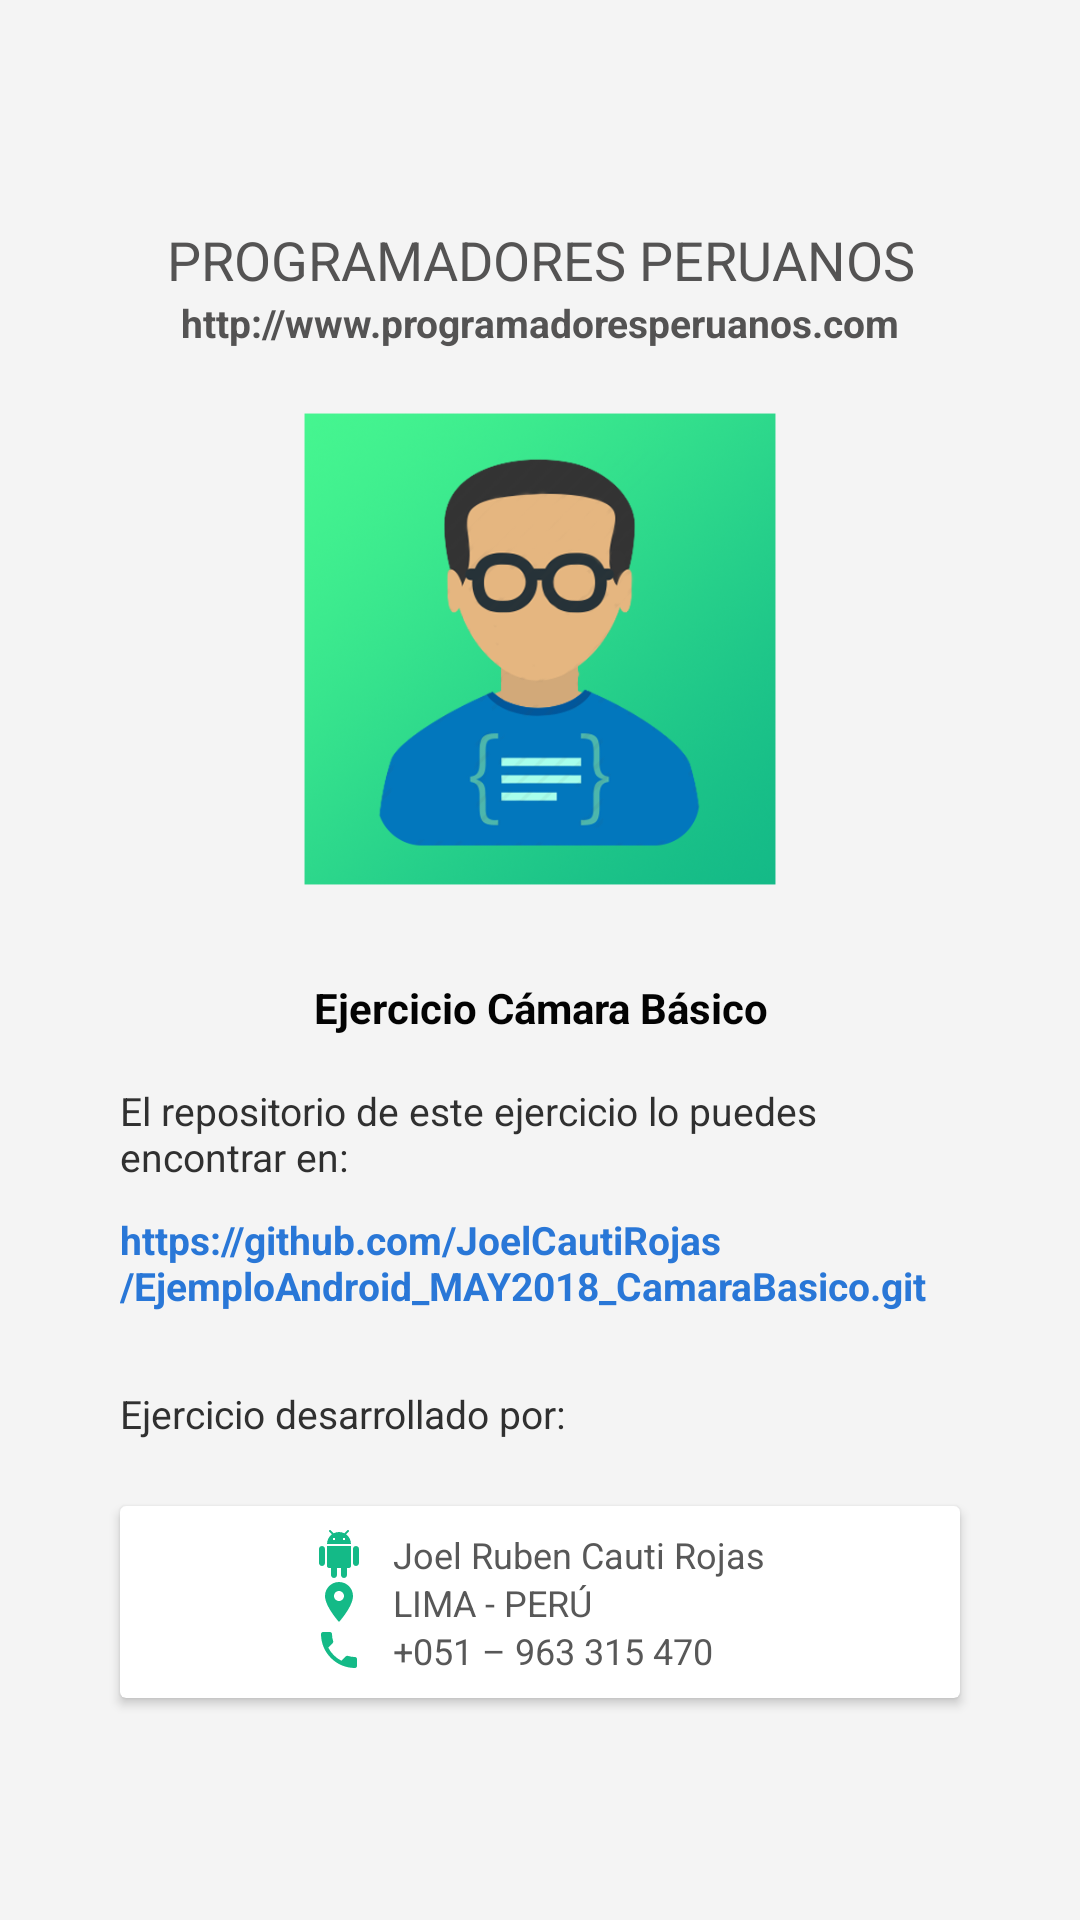

Named icons in this screenshot (1080×1920) and their centers, point (x, y):
phone: point (339, 1650)
place: point (339, 1602)
